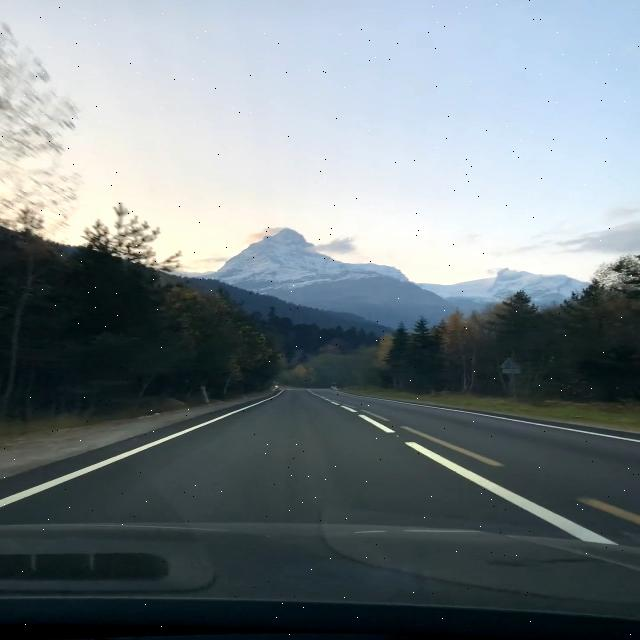road: (2, 389, 638, 640)
